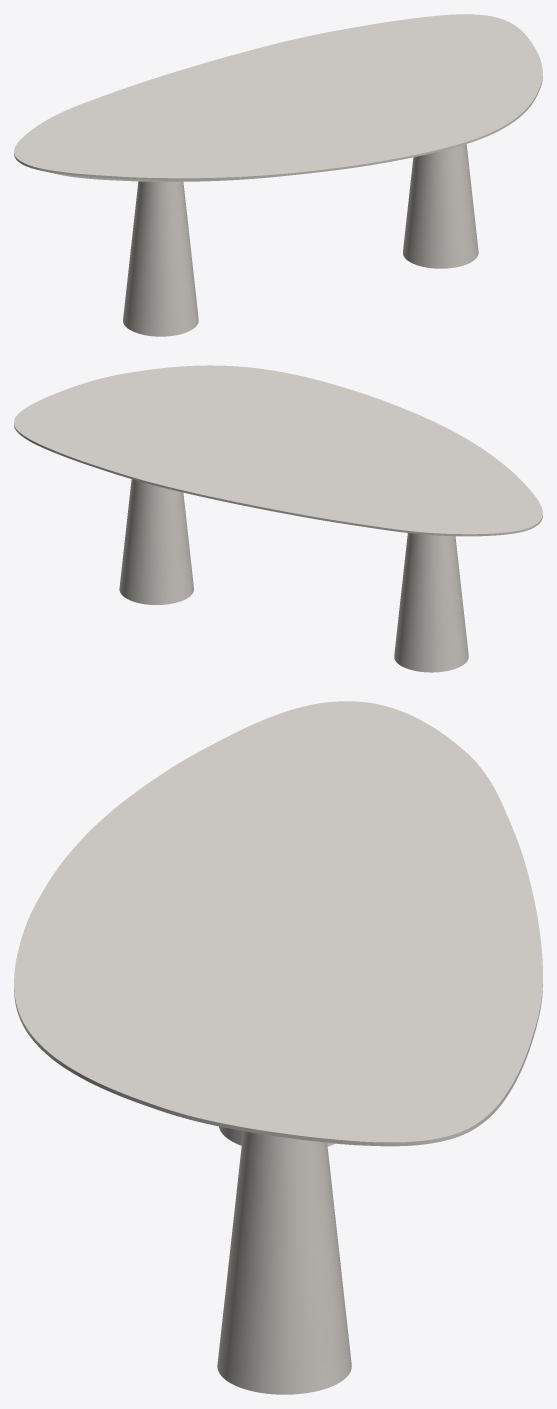
The model's file is pearlwhite_pebbletop_facet_pebble.glb.
3 views of the same model, one above another, from view 1: azimuth 30°, elevation 25°; view 2: azimuth 150°, elevation 25°; view 3: azimuth 270°, elevation 25° (orthographic). The views are drawn at different scales.
Visible parts, largest first — view 1: facet_pebbletop, pebble; view 2: facet_pebbletop, pebble; view 3: facet_pebbletop, pebble.
Boxes of the visible parts, x1=… form: facet_pebbletop: x1=14, y1=14, x2=542, y2=181; pebble: x1=123, y1=144, x2=478, y2=336; facet_pebbletop: x1=14, y1=365, x2=542, y2=536; pebble: x1=119, y1=479, x2=468, y2=672; facet_pebbletop: x1=14, y1=701, x2=542, y2=1146; pebble: x1=217, y1=1126, x2=351, y2=1394.
Size of the model in its own units: 7.5 by 2.5 by 3.8.
Materials: 1 (1 with a texture image).
